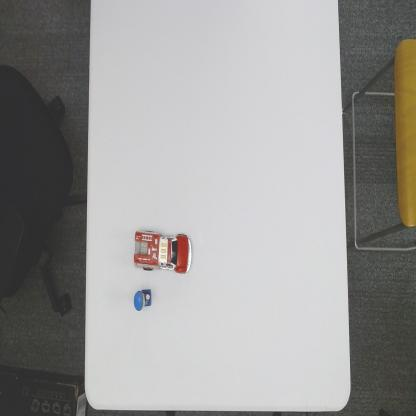Firetruck: (134, 230, 192, 274)
